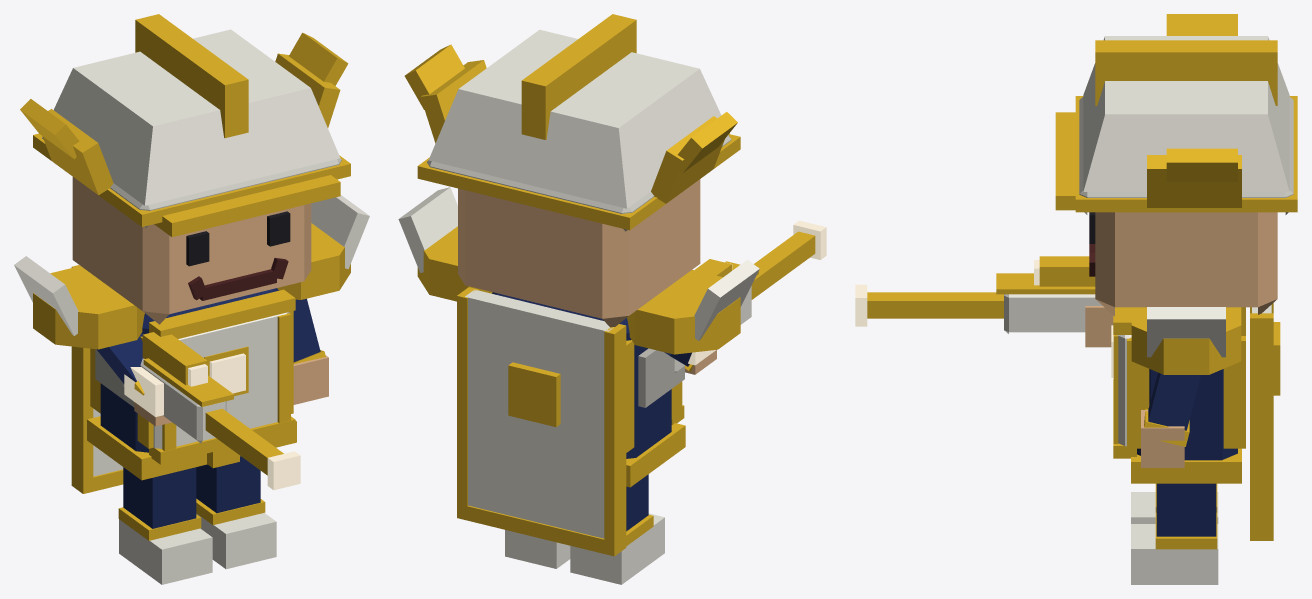
Rendered from rifleman_legend.glb.
3 renders of one model, left to right at view 1: azimuth 30°, elevation 25°; view 2: azimuth 150°, elevation 25°; view 3: azimuth 270°, elevation 25°, orthographic.
Parts seen in each view (by area): view 1: rifleman_legend_mesh; view 2: rifleman_legend_mesh; view 3: rifleman_legend_mesh.
Part boxes in pixels (x1,y1,x2,y2): rifleman_legend_mesh: [14, 14, 369, 584]; rifleman_legend_mesh: [398, 14, 826, 584]; rifleman_legend_mesh: [855, 14, 1297, 584].
Bounding box in the file's own units: 0.8602 × 1.3 × 1.02.
Materials: 2 (2 with a texture image).
